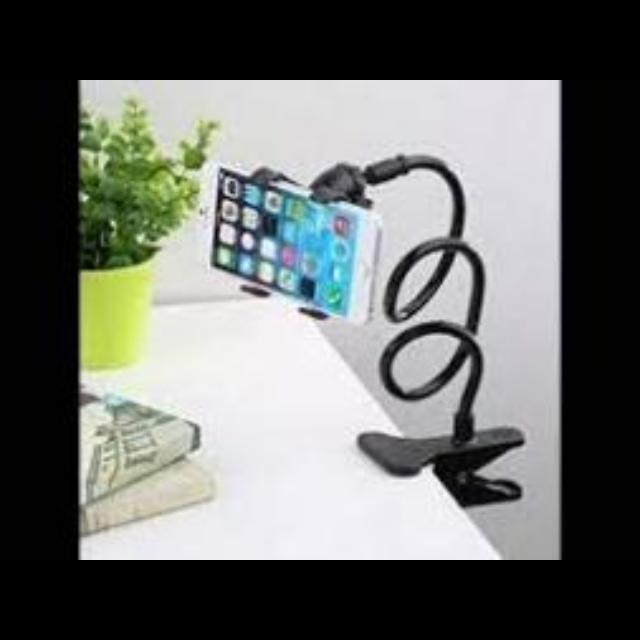phone: (174, 140, 448, 356)
